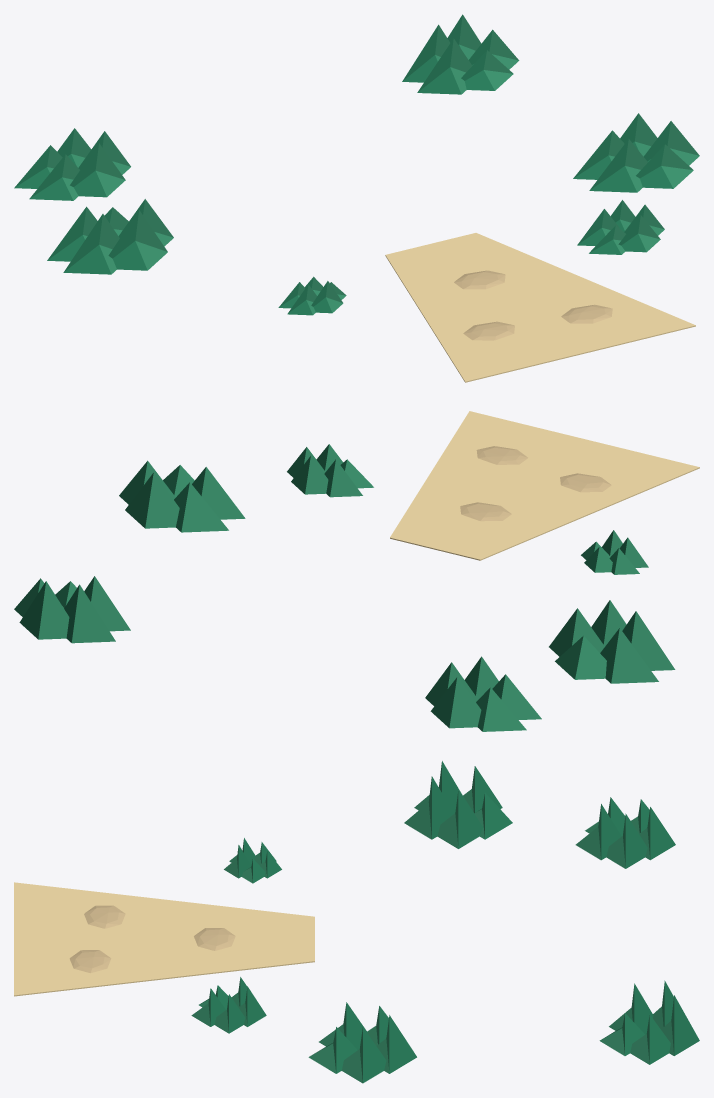
Rendered from decoration.glb.
3 renders of one model, top to bottom at view 1: azimuth 30°, elevation 25°; view 2: azimuth 150°, elevation 25°; view 3: azimuth 270°, elevation 25°, orthographic.
Visible parts, largest first — view 1: Decor_Twilight_FoldedGarden; view 2: Decor_Twilight_FoldedGarden; view 3: Decor_Twilight_FoldedGarden.
Part boxes in pixels (left/top/right/bottom): Decor_Twilight_FoldedGarden: left=14, top=14, right=699, bottom=382; Decor_Twilight_FoldedGarden: left=14, top=411, right=699, bottom=731; Decor_Twilight_FoldedGarden: left=14, top=761, right=699, bottom=1083.
Size of the model in its own units: 1.45 by 0.1153 by 1.44.
